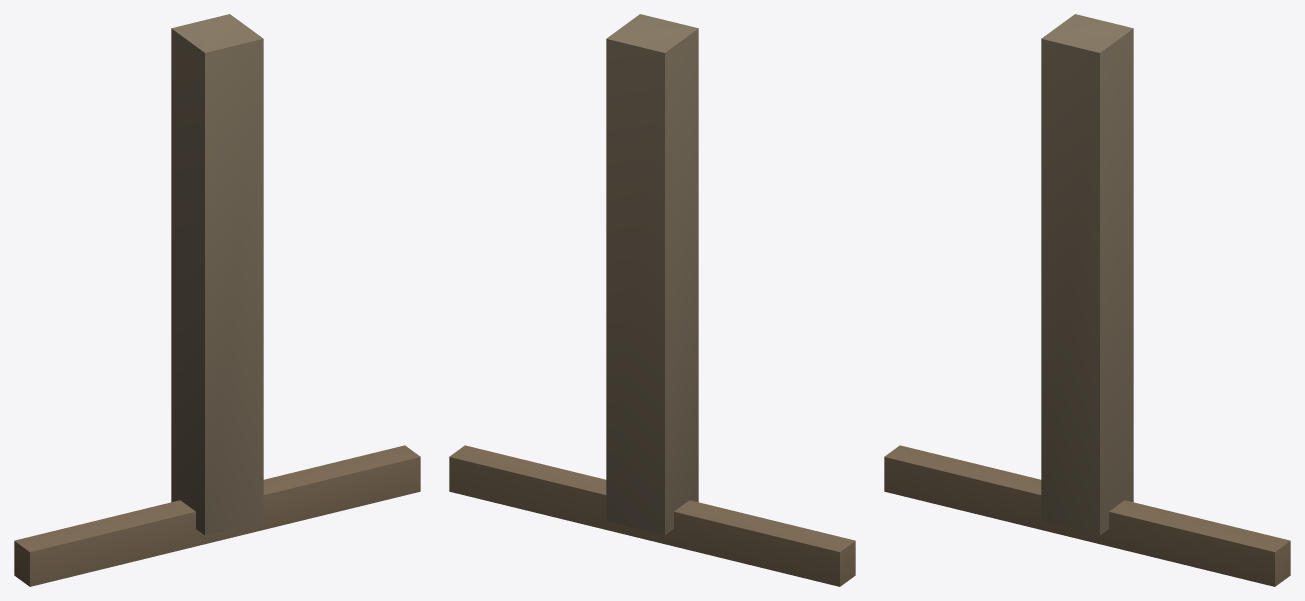
Rendered from fence-kit.glb.
The picture shows the model from 3 angles, left to right: view 1: azimuth 30°, elevation 25°; view 2: azimuth 150°, elevation 25°; view 3: azimuth 330°, elevation 25°; orthographic projection.
Parts seen in each view (by area): view 1: fencePostInstances, fenceRailInstances; view 2: fencePostInstances, fenceRailInstances; view 3: fencePostInstances, fenceRailInstances.
Part boxes in pixels (box(x1,y1,x2,y2)): fencePostInstances: box(171, 14, 263, 535); fenceRailInstances: box(14, 445, 420, 586); fencePostInstances: box(606, 14, 698, 535); fenceRailInstances: box(449, 445, 855, 586); fencePostInstances: box(1041, 14, 1133, 535); fenceRailInstances: box(884, 445, 1290, 586).
Size of the model in its own units: 1 by 1.22 by 0.15.
